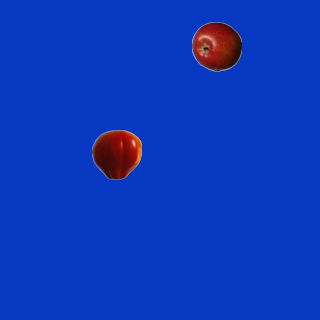Apple Braeburn: (191, 21, 241, 71)
Tomato 1: (91, 129, 141, 179)
